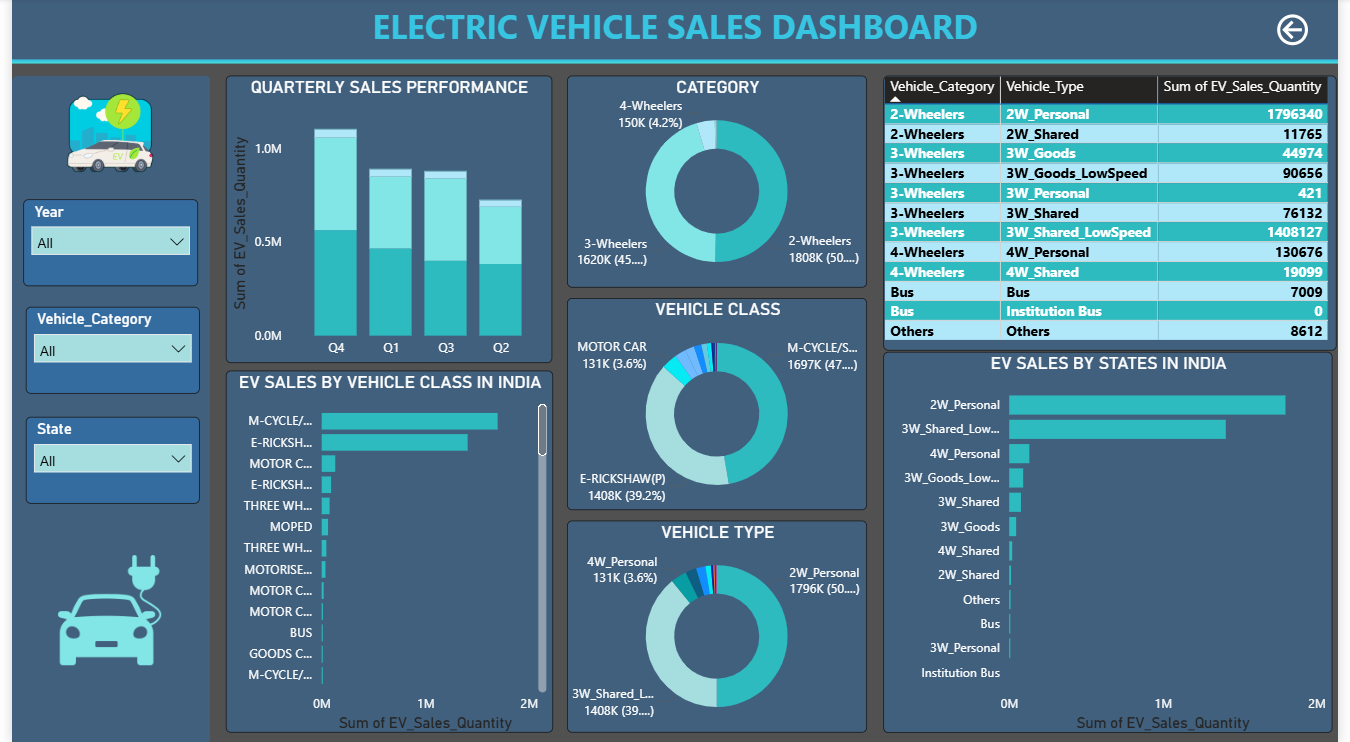

The page's visual inventory and layout, read from the dashboard file:
{"tool":"powerbi","page":{"name":"DB2","canvas":[1280,720],"ordinal":1},"visuals":[{"type":"shape","box":[0,48,1919.7,26.1],"z":0},{"type":"textbox","box":[0,0,1280,61.5],"z":1000},{"type":"donutChart","title":" CATEGORY ","fields":{"Y":["Sum(electric_cleaned.EV_Sales_Quantity)"],"Category":["electric_cleaned.Vehicle_Category"]},"box":[535.3,75,289.7,204.4],"z":2000},{"type":"shape","box":[0,0,1280,61.5],"z":3000},{"type":"shape","box":[0,74.3,191.4,645.7],"z":4000},{"type":"columnChart","title":"QUARTERLY SALES PERFORMANCE","fields":{"Category":["electric_cleaned.Month_Name (groups)"],"Y":["Sum(electric_cleaned.EV_Sales_Quantity)"],"Series":["electric_cleaned.Vehicle_Category"]},"box":[206.3,74.8,314.9,277.5],"z":5000},{"type":"clusteredBarChart","title":"EV SALES BY STATES IN INDIA","fields":{"Y":["Sum(electric_cleaned.EV_Sales_Quantity)"],"Category":["electric_cleaned.Vehicle_Type"]},"box":[841.2,341.2,433.8,367.6],"z":6000},{"type":"tableEx","title":"EV SALES BY STATES IN INDIA","fields":{"Values":["electric_cleaned.Vehicle_Category","electric_cleaned.Vehicle_Type","Sum(electric_cleaned.EV_Sales_Quantity)"]},"box":[840.9,74.8,437.9,265.4],"z":7000},{"type":"slicer","title":"Quantity Sold","fields":{"Values":["electric_cleaned.Year"]},"box":[11.4,194.3,168.6,84.3],"z":8000},{"type":"slicer","title":"Quantity Sold","fields":{"Values":["electric_cleaned.Vehicle_Category"]},"box":[13.2,298.5,167.6,83.8],"z":9000},{"type":"slicer","title":"Quantity Sold","fields":{"Values":["electric_cleaned.State"]},"box":[13.2,404.4,167.6,83.8],"z":10000},{"type":"donutChart","title":"VEHICLE CLASS","fields":{"Y":["Sum(electric_cleaned.EV_Sales_Quantity)"],"Category":["electric_cleaned.Vehicle_Class"]},"box":[535.3,289.7,289.7,205],"z":11000},{"type":"donutChart","title":"VEHICLE TYPE","fields":{"Y":["Sum(electric_cleaned.EV_Sales_Quantity)"],"Category":["electric_cleaned.Vehicle_Type"]},"box":[535.3,504.4,289.7,204.4],"z":12000},{"type":"clusteredBarChart","title":"EV SALES BY VEHICLE CLASS IN INDIA","fields":{"Y":["Sum(electric_cleaned.EV_Sales_Quantity)"],"Category":["electric_cleaned.Vehicle_Class"]},"box":[206.3,359.5,316.1,349.9],"z":13000},{"type":"actionButton","box":[1216.2,10.3,45.6,39.7],"z":14000},{"type":"image","box":[48.5,83.8,92.6,94.1],"z":15000},{"type":"image","box":[36.8,525,116.2,132.4],"z":16000}]}

Visuals, with their boxes in screenshot pixels (x1, y1, x2, y2), scaled from the page's 1280x720 canvas onto the 1350x742 screenshot:
shape: rect(0, 49, 1349, 76)
textbox: rect(0, 0, 1349, 63)
" CATEGORY " donutChart: rect(565, 77, 870, 288)
shape: rect(0, 0, 1349, 63)
shape: rect(0, 77, 202, 741)
"QUARTERLY SALES PERFORMANCE" columnChart: rect(218, 77, 550, 363)
"EV SALES BY STATES IN INDIA" clusteredBarChart: rect(887, 352, 1345, 730)
"EV SALES BY STATES IN INDIA" tableEx: rect(887, 77, 1349, 351)
"Quantity Sold" slicer: rect(12, 200, 190, 287)
"Quantity Sold" slicer: rect(14, 308, 191, 394)
"Quantity Sold" slicer: rect(14, 417, 191, 503)
"VEHICLE CLASS" donutChart: rect(565, 299, 870, 510)
"VEHICLE TYPE" donutChart: rect(565, 520, 870, 730)
"EV SALES BY VEHICLE CLASS IN INDIA" clusteredBarChart: rect(218, 370, 551, 731)
actionButton: rect(1283, 11, 1331, 52)
image: rect(51, 86, 149, 183)
image: rect(39, 541, 161, 677)
